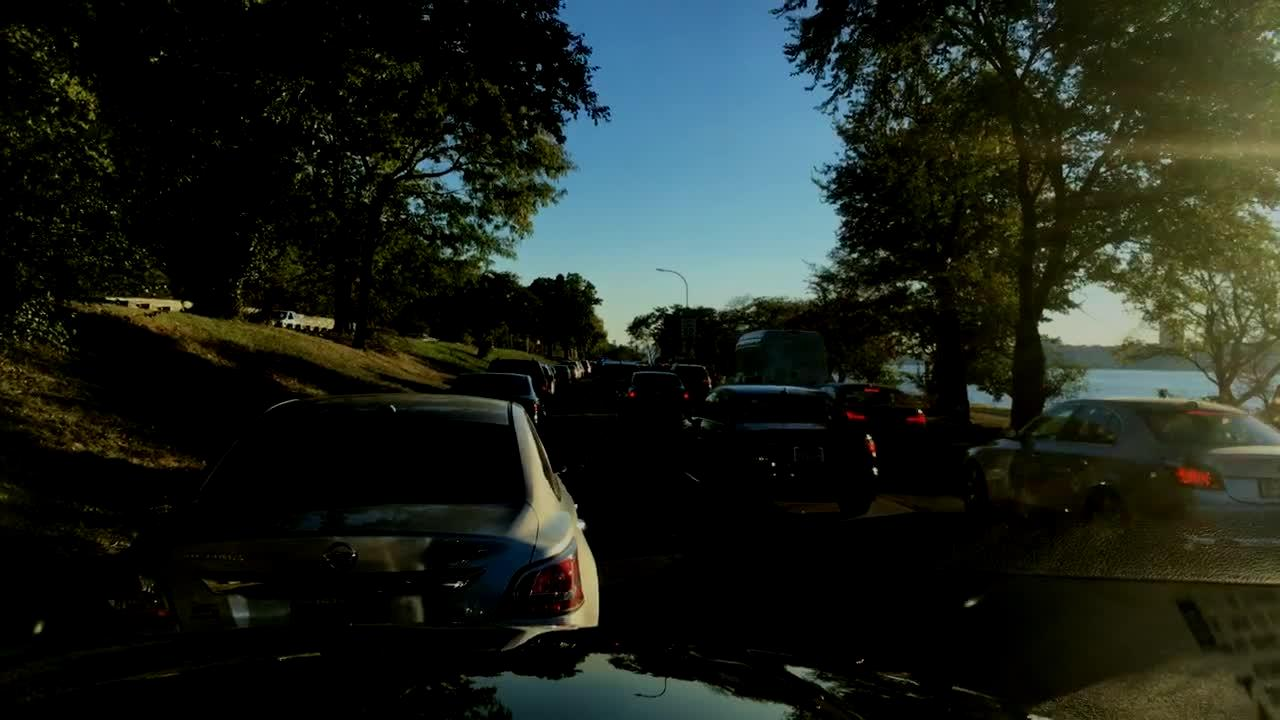Nissan: (314, 535, 363, 583)
